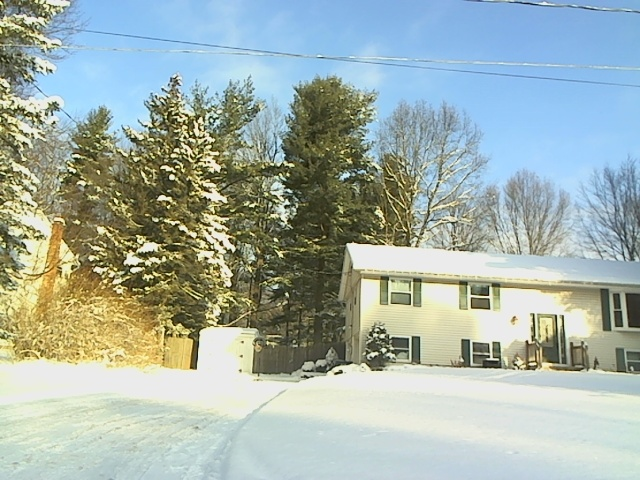Ploughed: (10, 377, 268, 475)
